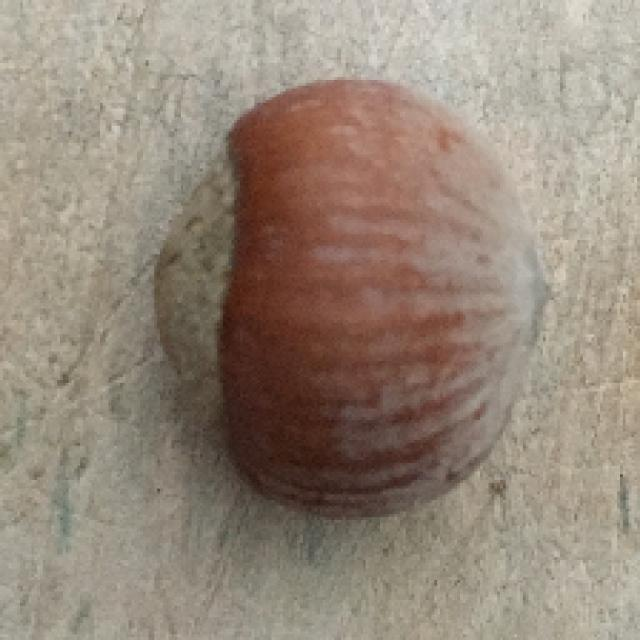qualityHazelnut: (152, 80, 542, 515)
